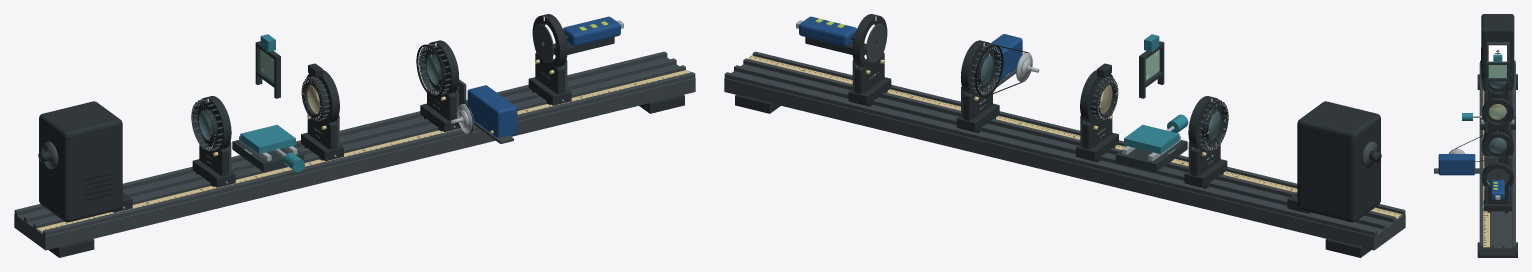
Rendered from polarization-scan.glb.
3 renders of one model, left to right at view 1: azimuth 30°, elevation 25°; view 2: azimuth 150°, elevation 25°; view 3: azimuth 270°, elevation 25°, orthographic. The views are drawn at different scales.
Visible parts, largest first — view 1: Extruded rail, Lamp housing, Channel lip, Channel lip.002, Channel lip.001, Channel lip.003, Ruler strip, PS2120A_Housing, PS2176_Housing, ScanCarriage, PolarizerRotor_Dial, ScanBase (+18 smaller); view 2: Extruded rail, Lamp housing, Channel lip.003, Channel lip.002, Channel lip.001, Channel lip, Ruler strip, ScanCarriage, PS2176_Housing, ScanBase, DetectorCarrier_FixedRing, PolarizerRotor_Dial (+18 smaller); view 3: Extruded rail, Lamp housing, PS2120A_Housing, Channel lip.003, RetarderCarrier_FixedRing, Channel lip, AnalyzerCarrier_FixedRing, DetectorCarrier_FixedRing, Ruler strip, PolarizerCarrier_FixedRing, Target luminous face, DetectorAperture (+29 smaller).
Part boxes in pixels (x1,y1,x2,y2): Extruded rail: [14, 57, 695, 250]; Lamp housing: [39, 101, 122, 222]; Channel lip: [42, 72, 695, 236]; Channel lip.002: [24, 58, 676, 222]; Channel lip.001: [33, 65, 685, 229]; Channel lip.003: [14, 51, 667, 215]; Ruler strip: [36, 70, 690, 232]; PS2120A_Housing: [467, 85, 517, 137]; PS2176_Housing: [563, 16, 620, 46]; ScanCarriage: [240, 124, 295, 154]; PolarizerRotor_Dial: [191, 101, 222, 150]; ScanBase: [232, 140, 304, 172]; Extruded rail: [724, 64, 1405, 250]; Lamp housing: [1297, 101, 1380, 222]; Channel lip.003: [724, 72, 1377, 236]; Channel lip.002: [734, 65, 1386, 229]; Channel lip.001: [743, 58, 1395, 222]; Channel lip: [752, 51, 1405, 215]; Ruler strip: [748, 55, 1402, 218]; ScanCarriage: [1124, 124, 1179, 154]; PS2176_Housing: [799, 16, 856, 46]; ScanBase: [1115, 140, 1187, 172]; DetectorCarrier_FixedRing: [852, 14, 887, 69]; PolarizerRotor_Dial: [1197, 101, 1228, 150]; Extruded rail: [1479, 63, 1515, 255]; Lamp housing: [1481, 14, 1514, 79]; PS2120A_Housing: [1438, 154, 1475, 175]; Channel lip.003: [1512, 60, 1515, 248]; RetarderCarrier_FixedRing: [1481, 98, 1513, 128]; Channel lip: [1480, 60, 1482, 248]; AnalyzerCarrier_FixedRing: [1481, 131, 1513, 162]; DetectorCarrier_FixedRing: [1481, 162, 1513, 191]; Ruler strip: [1483, 90, 1489, 247]; PolarizerCarrier_FixedRing: [1481, 70, 1513, 97]; Target luminous face: [1488, 45, 1506, 61]; DetectorAperture: [1486, 168, 1509, 184].
Bounding box in the file's own units: 1.2 × 0.269 × 0.23.
